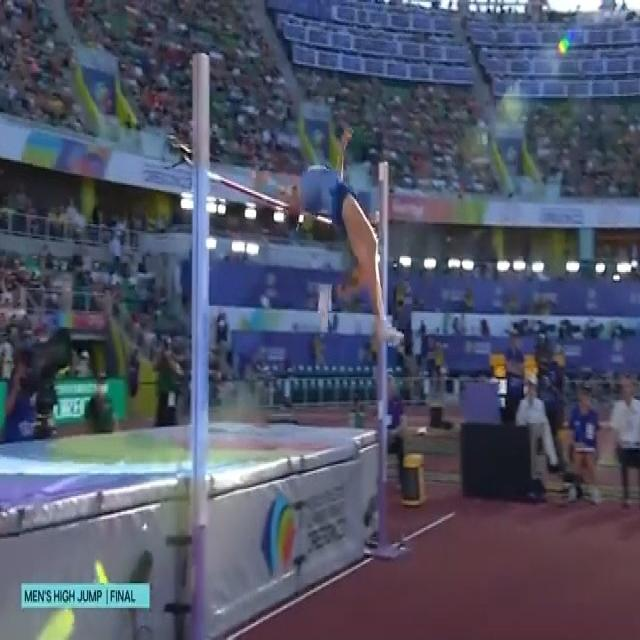jump: (255, 129, 404, 348)
